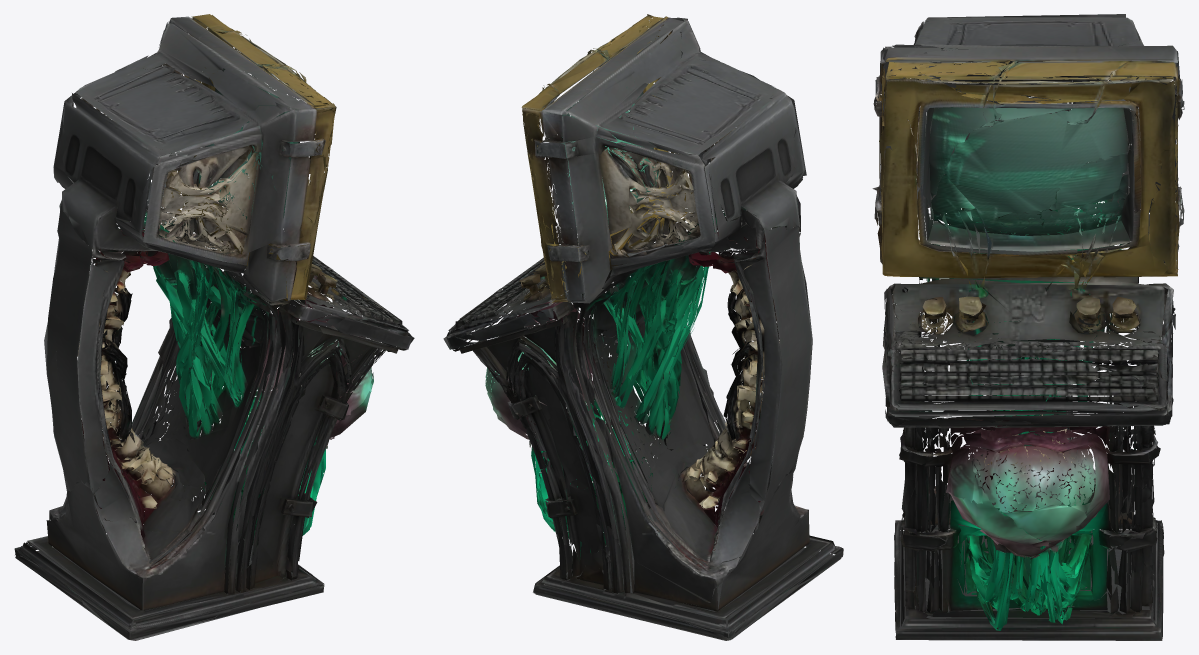
The model's file is quest_hive_archive_node.glb.
3 renders of one model, left to right at view 1: azimuth 30°, elevation 25°; view 2: azimuth 150°, elevation 25°; view 3: azimuth 270°, elevation 25°, orthographic. The views are drawn at different scales.
Visible parts, largest first — view 1: node_0; view 2: node_0; view 3: node_0.
Boxes of the visible parts, x1=… form: node_0: x1=14, y1=14, x2=414, y2=640; node_0: x1=443, y1=14, x2=843, y2=640; node_0: x1=872, y1=14, x2=1184, y2=640.
Size of the model in its own units: 0.6271 by 0.9798 by 0.4803.
Materials: 1 (1 with a texture image).
